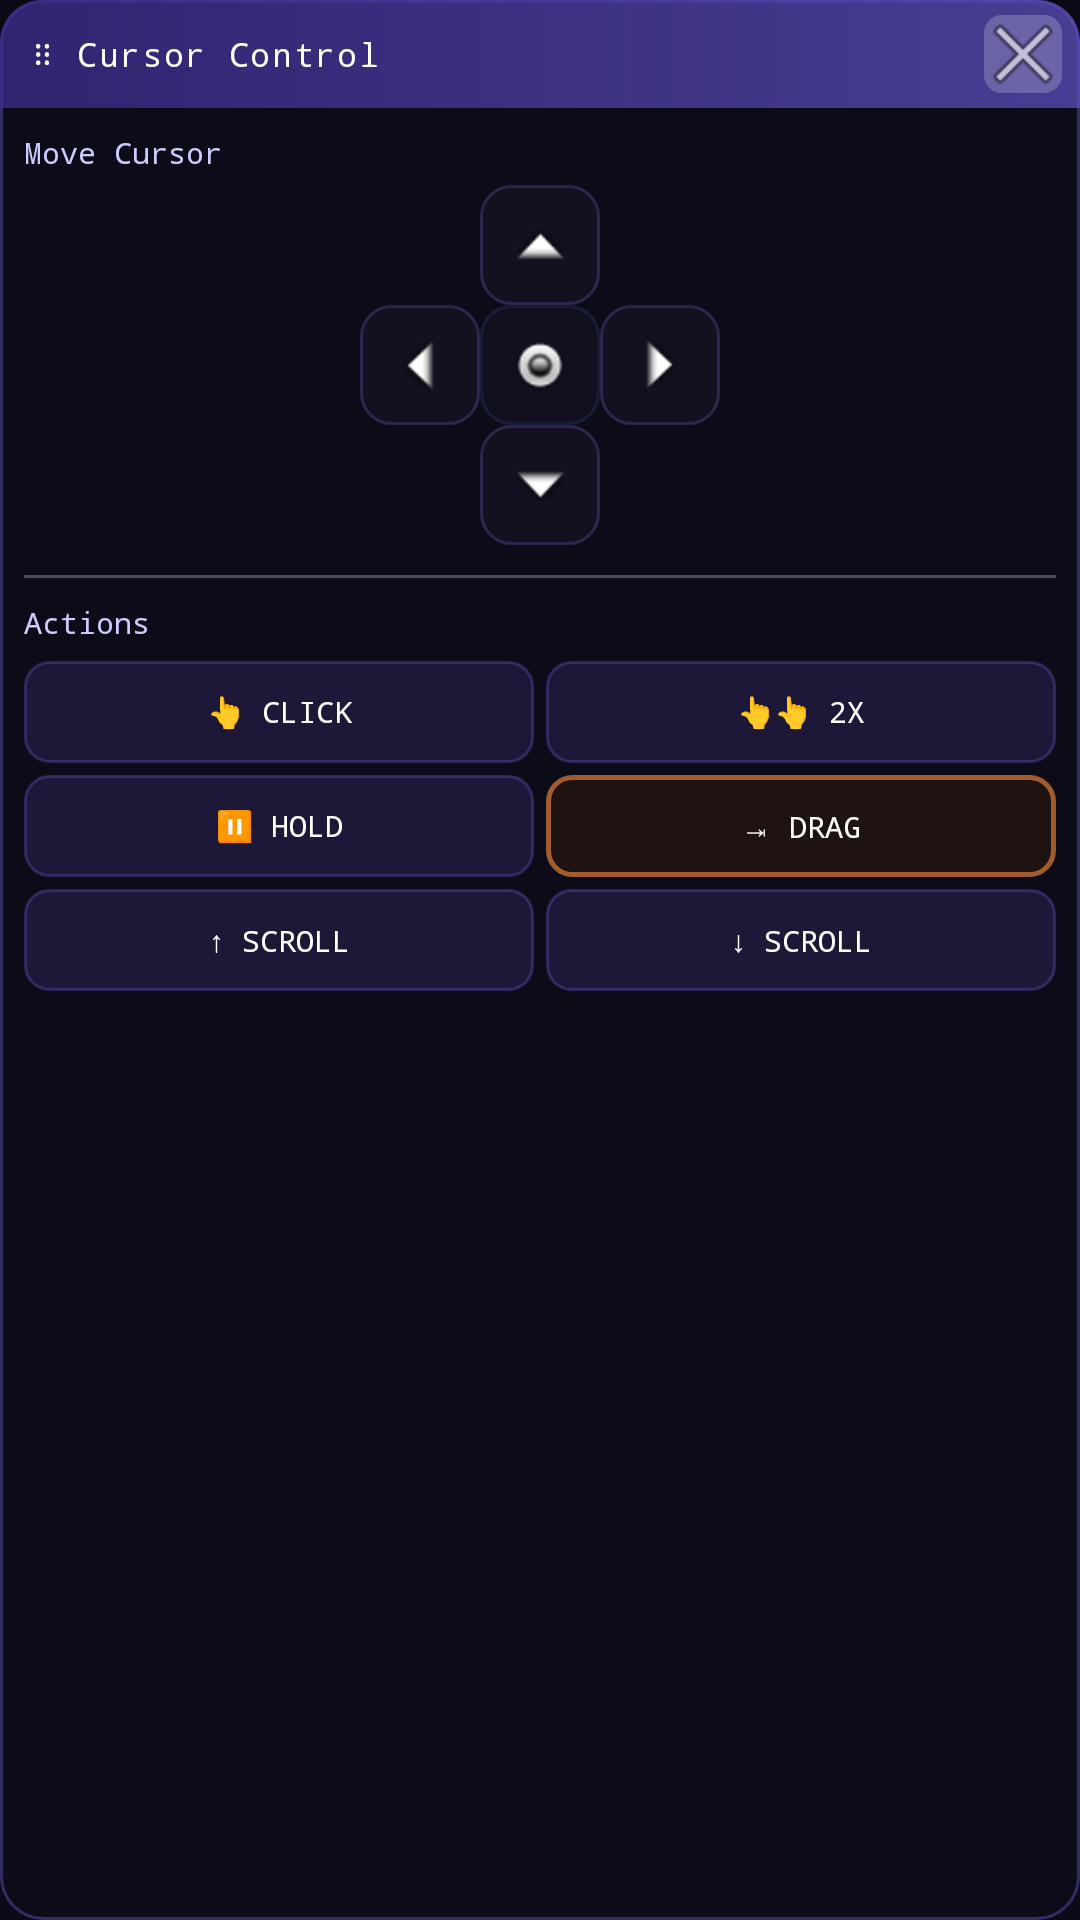

Named icons in this screenshot (1080px x 1920px) and their bounding boxes, detection(x1, y1, x2, y2):
Down: detection(480, 425, 600, 545)
Up: detection(480, 185, 600, 305)
